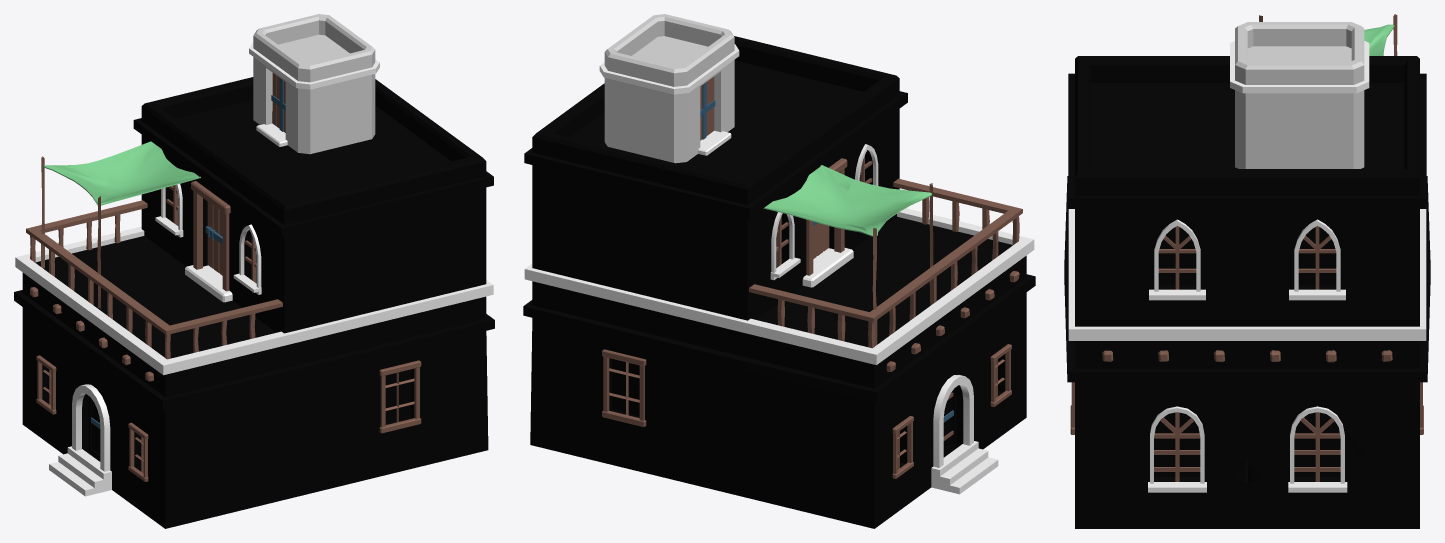
File: civilian_house_32_e.FBX
The picture shows the model from 3 angles, left to right: view 1: azimuth 30°, elevation 25°; view 2: azimuth 150°, elevation 25°; view 3: azimuth 270°, elevation 25°; orthographic projection. The views are drawn at different scales.
Visible parts, largest first — view 1: civilian_house_32_e_LOD0; view 2: civilian_house_32_e_LOD0; view 3: civilian_house_32_e_LOD0.
Part boxes in pixels (left/top/right/bottom): civilian_house_32_e_LOD0: left=14, top=14, right=494, bottom=528; civilian_house_32_e_LOD0: left=523, top=14, right=1035, bottom=528; civilian_house_32_e_LOD0: left=1064, top=14, right=1430, bottom=528.
Size of what is drawn, in the model's own units: 1157 by 1120 by 850.
